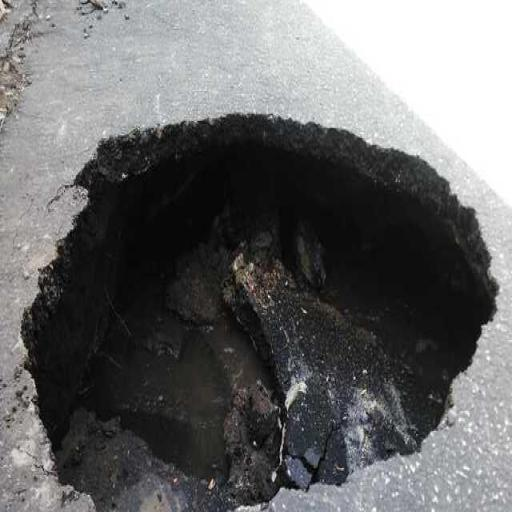Concentric_Crack: (21, 114, 497, 510)
